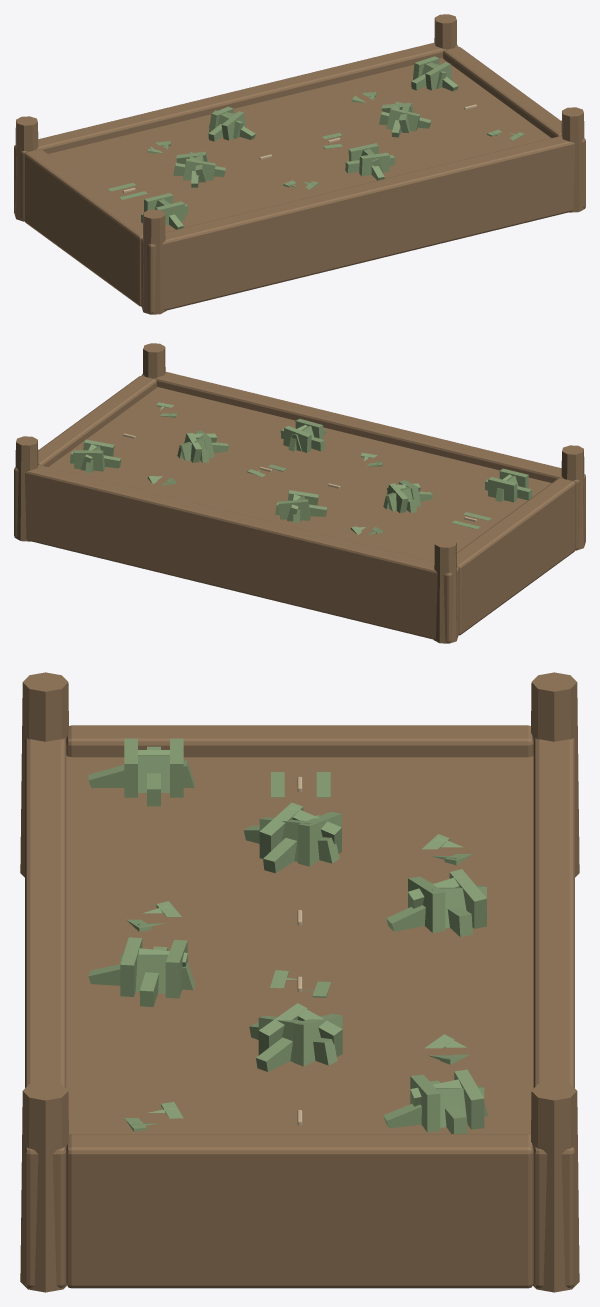
Rendered from monastery_herb_garden_bed.glb.
3 views of the same model, one above another, from view 1: azimuth 30°, elevation 25°; view 2: azimuth 150°, elevation 25°; view 3: azimuth 270°, elevation 25° (orthographic). The views are drawn at different scales.
Parts seen in each view (by area): view 1: world; view 2: world; view 3: world.
Part boxes in pixels (x1,y1,x2,y2): world: (14, 14, 585, 314); world: (14, 343, 585, 643); world: (20, 672, 579, 1292).
Bounding box in the file's own units: 2 × 0.4143 × 1.1.
